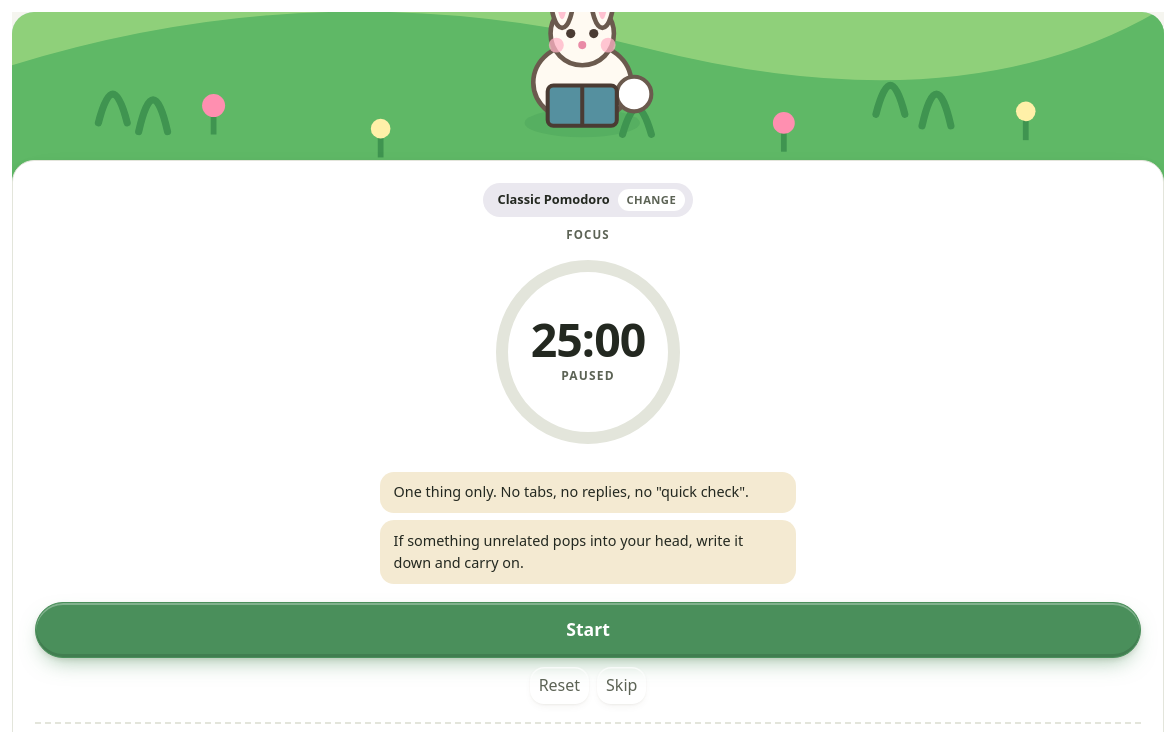
Scenario: FocusTimer — controls › resets back to a full block
Click the button "Skip".
click(622, 685)  # box x1=597 y1=666 x2=646 y2=704
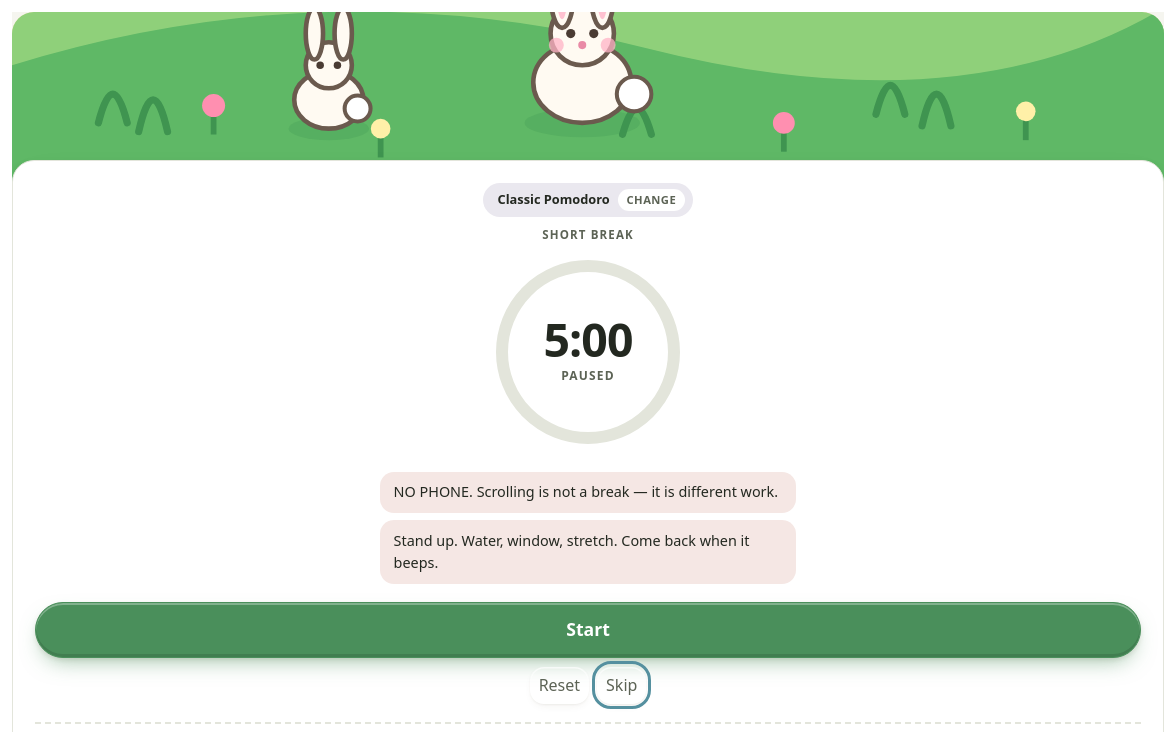
Expected: the text "5:00" is shown, x1=543 y1=307 x2=632 y2=371
Click the button "Skip".
click(622, 685)  # box x1=597 y1=666 x2=646 y2=704
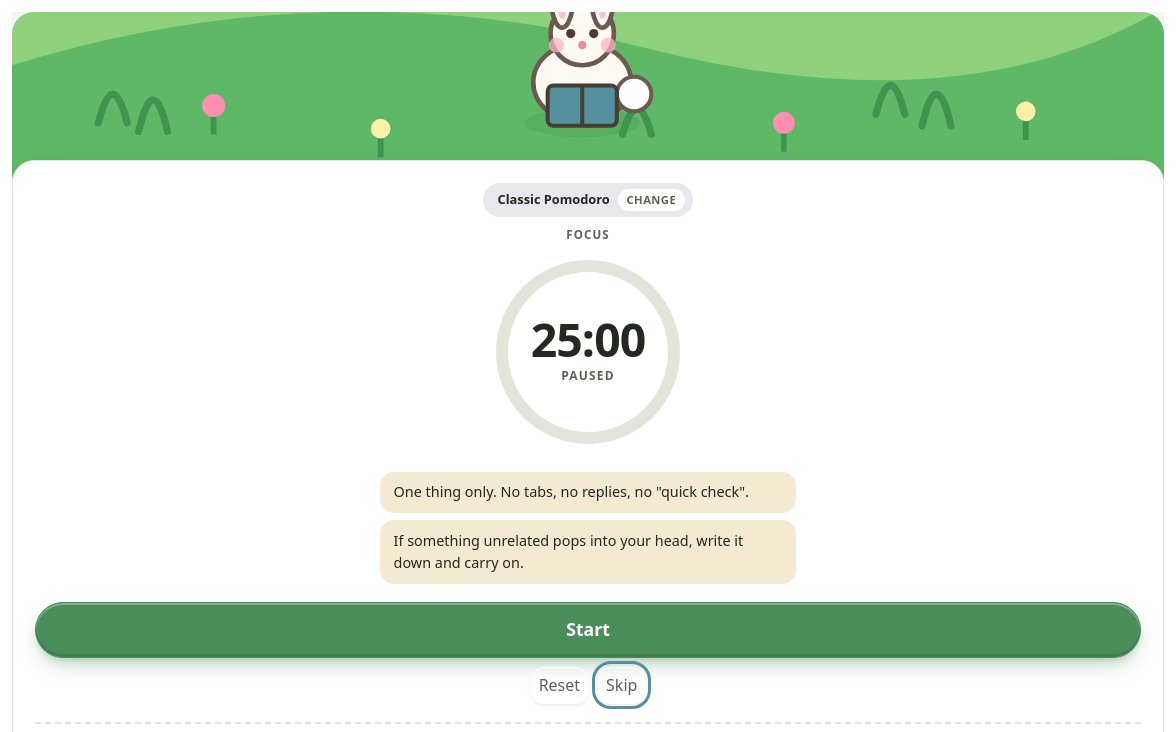
Now the text "25:00" is shown, box x1=531 y1=307 x2=645 y2=371
